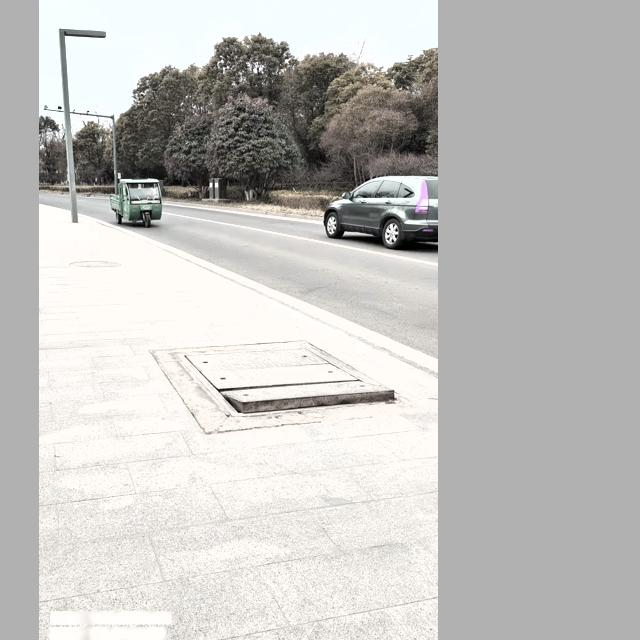uncovered: (171, 341, 397, 419)
